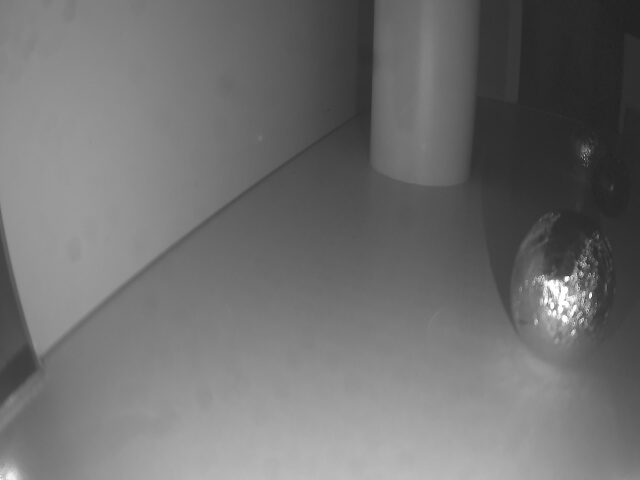Dead: (594, 158, 633, 214)
Live: (509, 204, 619, 367), (567, 119, 605, 176)
